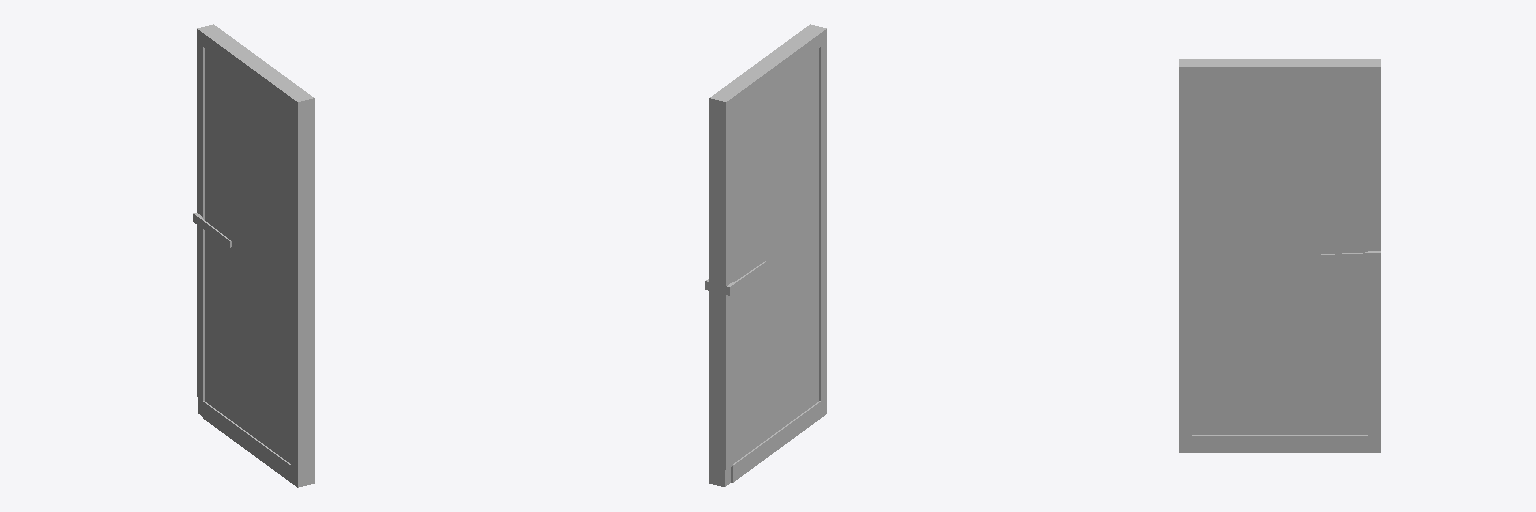
File: BackroomDoor.obj
3 renders of one model, left to right at view 1: azimuth 30°, elevation 25°; view 2: azimuth 150°, elevation 25°; view 3: azimuth 270°, elevation 25°, orthographic.
Parts seen in each view (by area): view 1: Cube; view 2: Cube; view 3: Cube.
Boxes of the visible parts, x1=… form: Cube: x1=193, y1=24, x2=314, y2=487; Cube: x1=705, y1=24, x2=826, y2=486; Cube: x1=1179, y1=59, x2=1380, y2=452.
Size of the model in its own units: 0.4369 by 6.54 by 3.1.